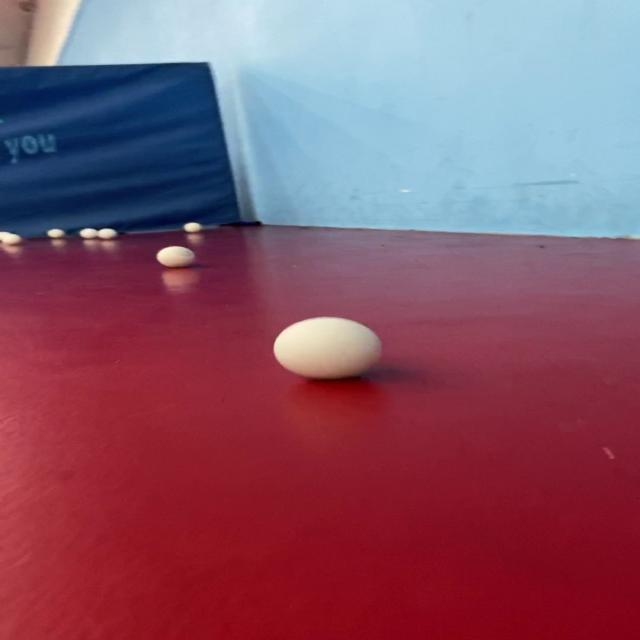ping-pong-ball: (263, 304, 397, 386), (150, 237, 200, 275), (174, 216, 210, 237), (70, 221, 104, 240), (90, 226, 124, 244), (0, 227, 26, 248), (38, 226, 68, 241)
